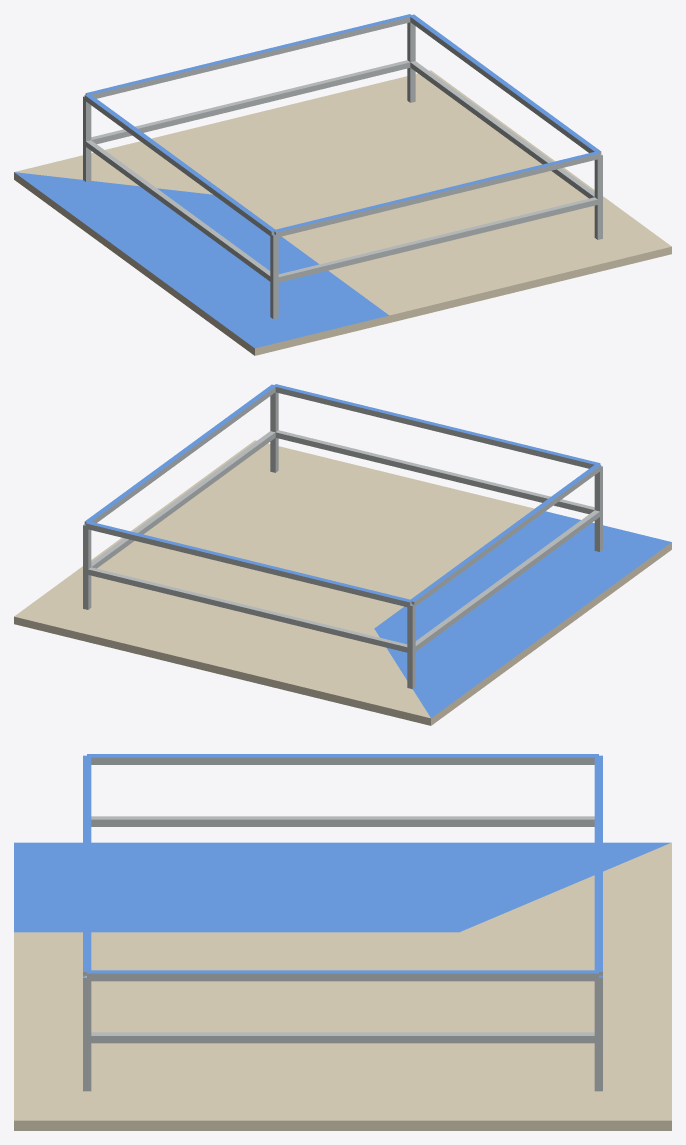
File: meridian_construction_center_scaffolding.glb
The picture shows the model from 3 angles, top to bottom: view 1: azimuth 30°, elevation 25°; view 2: azimuth 150°, elevation 25°; view 3: azimuth 270°, elevation 25°; orthographic projection. The views are drawn at different scales.
Visible parts, largest first — view 1: hull; view 2: hull; view 3: hull.
Part boxes in pixels (<box>): hull: <box>14,14,671,355</box>; hull: <box>14,384,671,725</box>; hull: <box>14,754,671,1130</box>.
Size of the model in its own units: 14.4 by 3.09 by 14.4.
